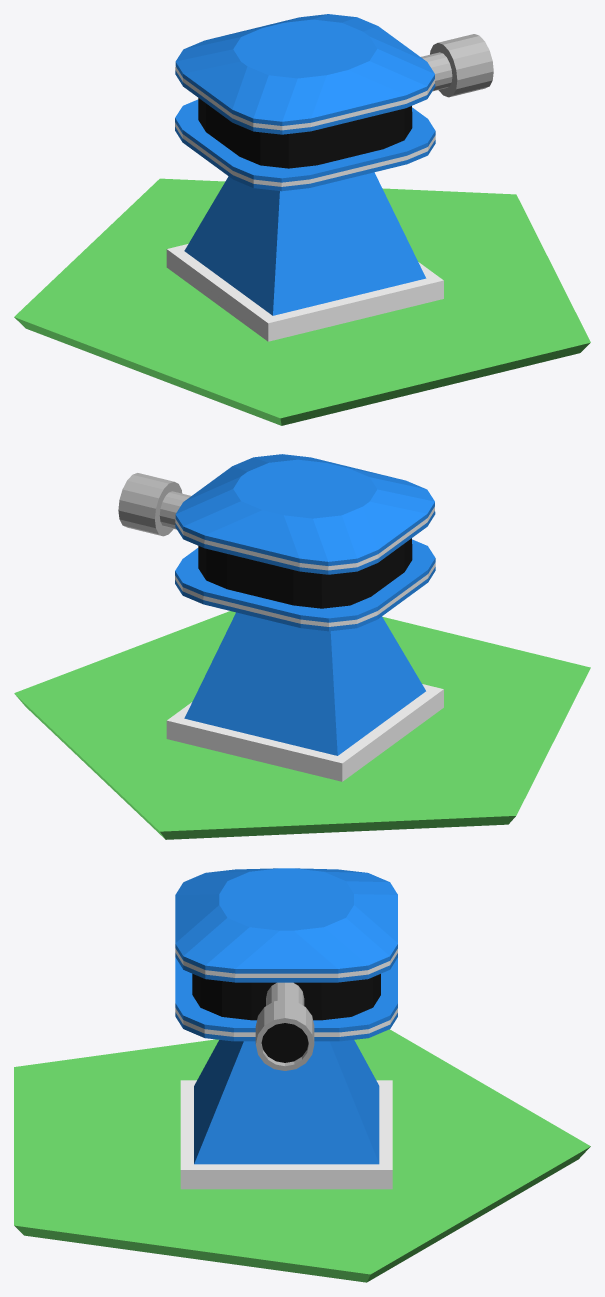
File: turret_3.fbx
3 renders of one model, top to bottom at view 1: azimuth 30°, elevation 25°; view 2: azimuth 150°, elevation 25°; view 3: azimuth 270°, elevation 25°, orthographic. The views are drawn at different scales.
Parts seen in each view (by area): view 1: DodecagonVideTuile.001, Cube.002, Cylinder.001; view 2: Cube.002, DodecagonVideTuile.001, Cylinder.001; view 3: DodecagonVideTuile.001, Cube.002, Cylinder.001.
Part boxes in pixels (left/top/right/bottom): DodecagonVideTuile.001: left=14, top=178, right=590, bottom=425; Cube.002: left=166, top=14, right=443, bottom=341; Cylinder.001: left=421, top=34, right=493, bottom=97; Cube.002: left=166, top=454, right=443, bottom=781; DodecagonVideTuile.001: left=14, top=611, right=590, bottom=839; Cylinder.001: left=118, top=473, right=190, bottom=536; DodecagonVideTuile.001: left=14, top=1029, right=590, bottom=1282; Cube.002: left=175, top=868, right=397, bottom=1189; Cylinder.001: left=255, top=982, right=314, bottom=1070.
Bounding box in the file's own units: 111 × 52.35 × 105.
